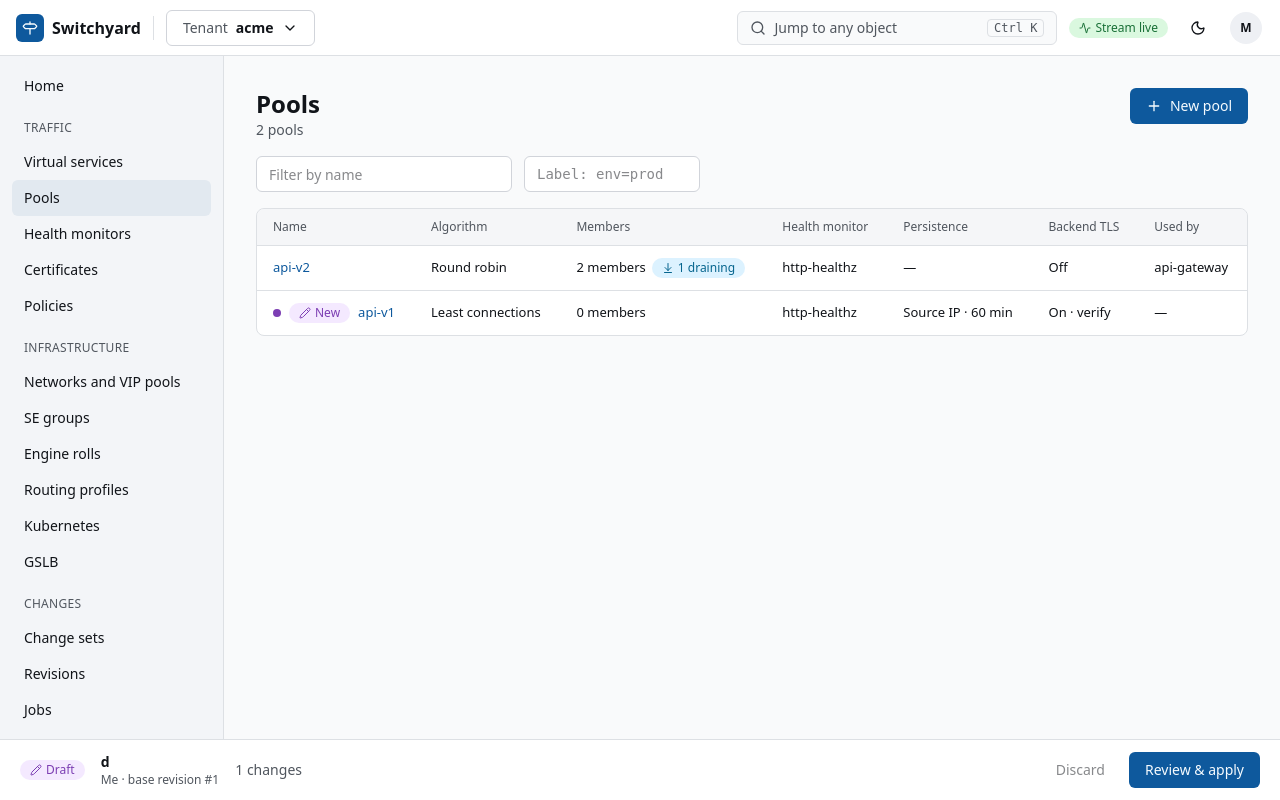
pools › maps 422 findings onto member fields and deletes after confirming
Click the button "api-v2" at coordinates (291, 268), box [273,258,310,278]
(page scrolled)
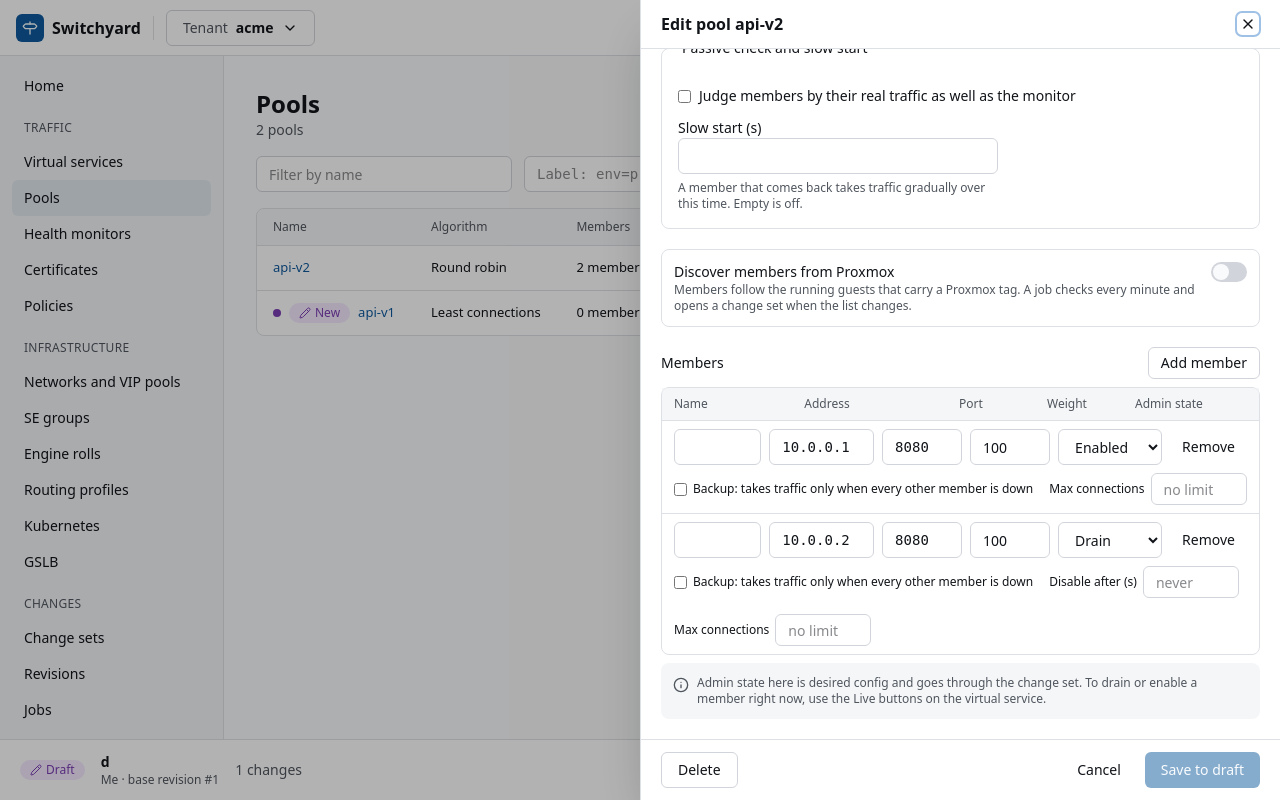
Check: the field named "Member 1 address" is enabled
Replace the text in the field named "Member 1 address" with "nope" at coordinates (822, 447), box [769,429,874,465]
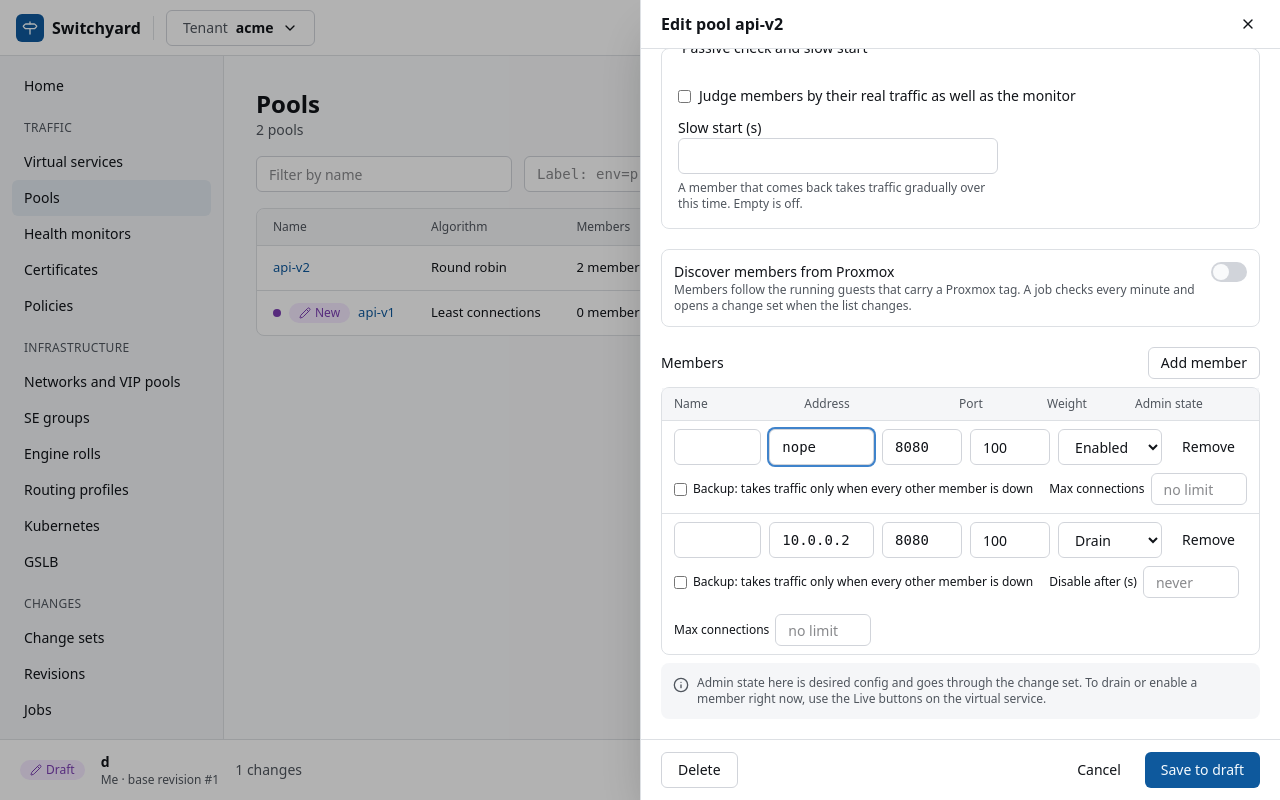
Click the button "Save to draft" at coordinates (1202, 770), box [1145,752,1260,788]
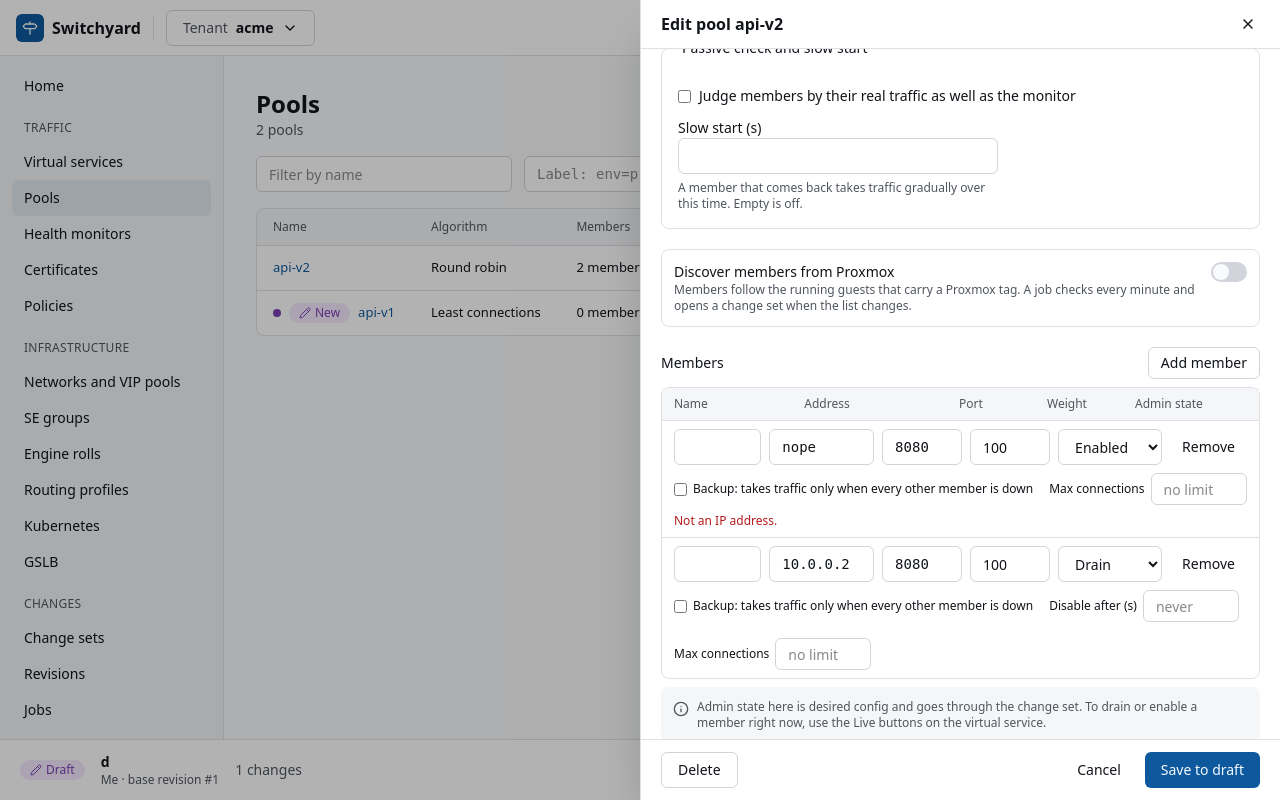
Check: the text "Not an IP address." is shown, box [674,512,777,529]
